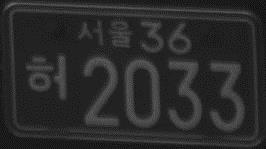0: (125, 58, 162, 129)
2: (80, 56, 121, 129)
3: (207, 58, 246, 131), (165, 60, 204, 130), (138, 19, 164, 54)
6: (167, 21, 192, 55)
서울_O: (76, 18, 134, 50)
허: (27, 54, 69, 103)
